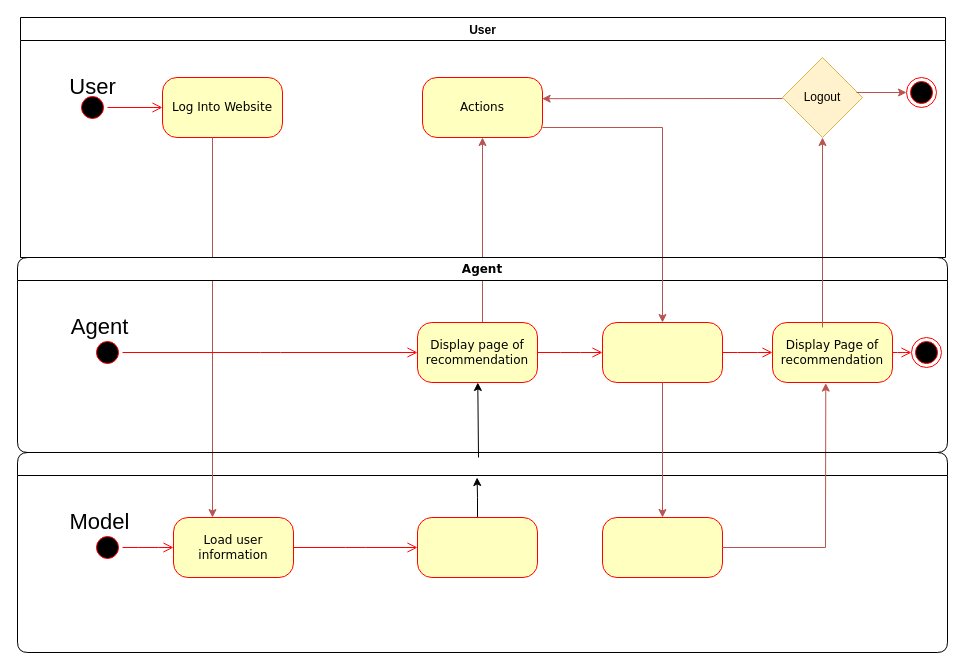
This 965x670 diagram has some shape labels left out. Here are the shapes that lost their labels. From the top down, the box of each, then its label:
(602, 322, 722, 382): Observe New state,reward
(416, 516, 538, 578): Generate vector embedding of recommendation
(16, 452, 948, 652): DL Model
(602, 516, 722, 578): Generate New Page of recommendation
